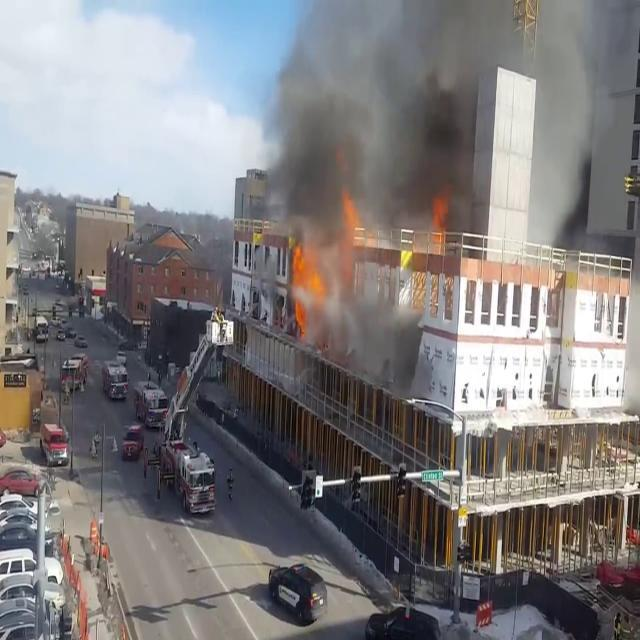Fire: (287, 241, 328, 335)
Smoke: (256, 0, 630, 253)
